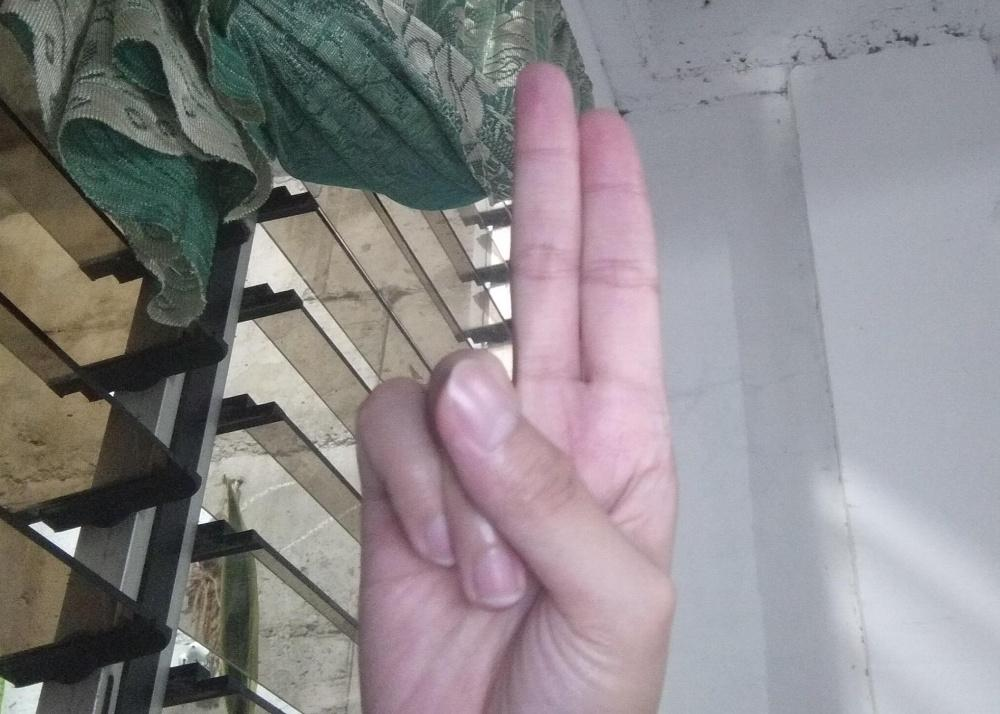u: (352, 59, 680, 714)
